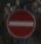No entry: (5, 6, 36, 39)
